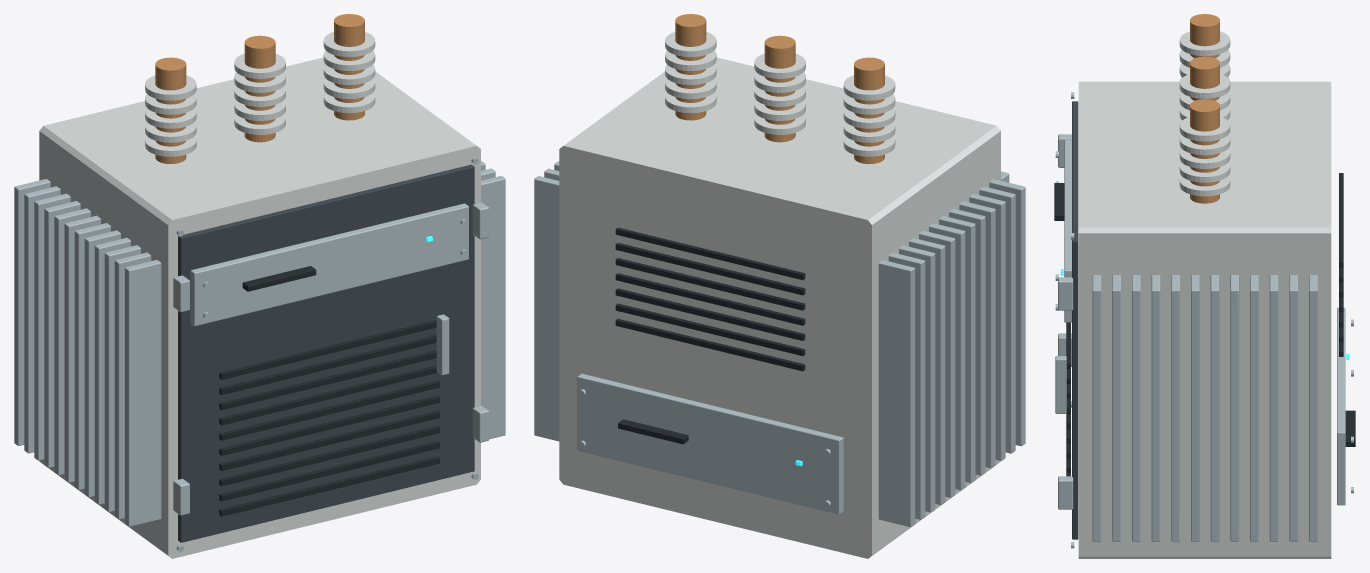
Rendered from data-centre-infiltration-kit-data-centre-infiltration--345e8a34__29240.glb.
3 views of the same model, side by side, from view 1: azimuth 30°, elevation 25°; view 2: azimuth 150°, elevation 25°; view 3: azimuth 270°, elevation 25° (orthographic). The views are drawn at different scales.
Parts seen in each view (by area): view 1: data-centre-infiltration-kit-transformer; view 2: data-centre-infiltration-kit-transformer; view 3: data-centre-infiltration-kit-transformer.
Boxes of the visible parts, box(x1,y1,x2,y2) form: data-centre-infiltration-kit-transformer: box(14, 14, 505, 558); data-centre-infiltration-kit-transformer: box(534, 14, 1025, 558); data-centre-infiltration-kit-transformer: box(1054, 14, 1355, 558).
Size of the model in its own units: 1.69 by 1.85 by 1.2.
